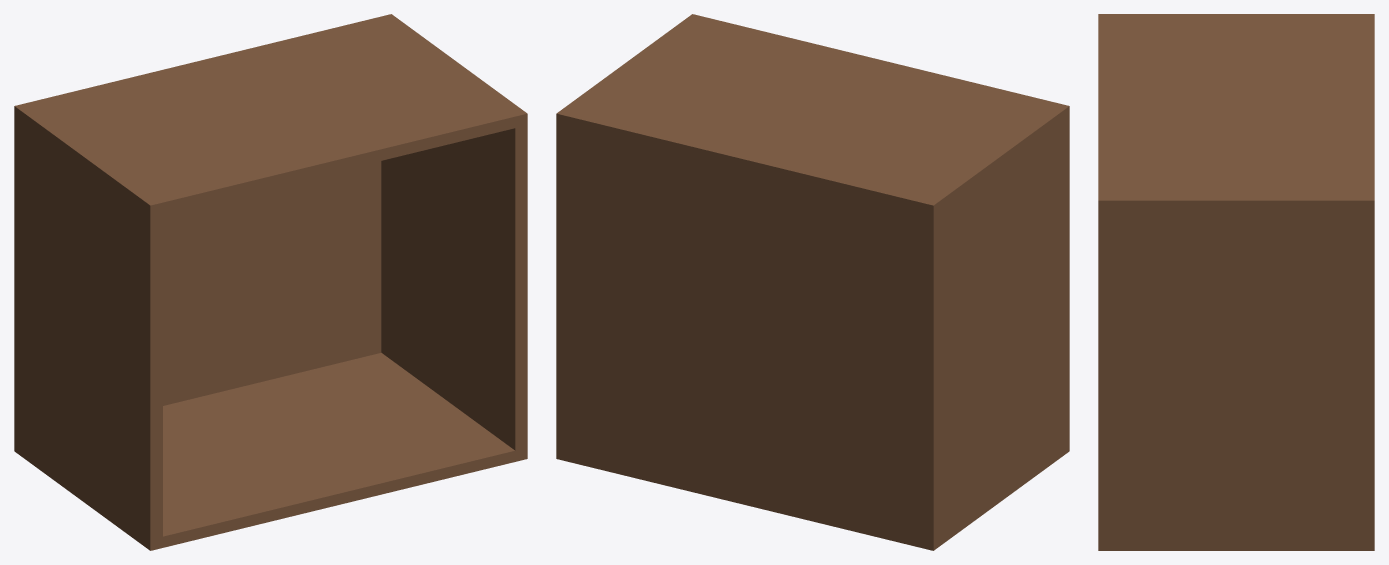
File: caja.fbx
3 views of the same model, side by side, from view 1: azimuth 30°, elevation 25°; view 2: azimuth 150°, elevation 25°; view 3: azimuth 270°, elevation 25° (orthographic).
Visible parts, largest first — view 1: Cube; view 2: Cube; view 3: Cube.
Part boxes in pixels (x1=…): Cube: x1=14, y1=14, x2=527, y2=550; Cube: x1=556, y1=14, x2=1069, y2=550; Cube: x1=1098, y1=14, x2=1374, y2=550.
Bounding box in the file's own units: 40 × 35 × 25.
